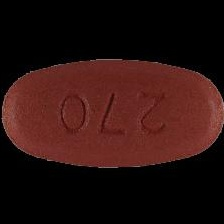55154-1032: (0, 0, 224, 224)
